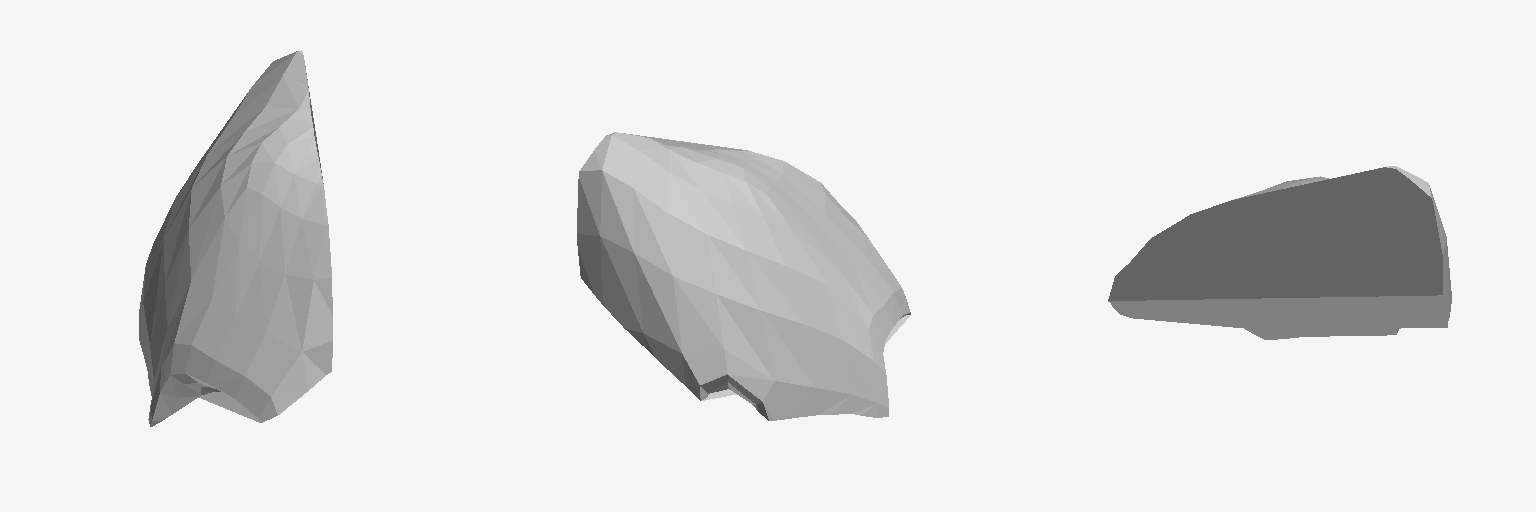
File: FracturePartFracture.obj
3 renders of one model, left to right at view 1: azimuth 30°, elevation 25°; view 2: azimuth 150°, elevation 25°; view 3: azimuth 270°, elevation 25°, orthographic.
Parts seen in each view (by area): view 1: Fracture; view 2: Fracture; view 3: Fracture.
Part boxes in pixels (bbox=[...]): Fracture: bbox=[139, 50, 332, 426]; Fracture: bbox=[577, 132, 910, 420]; Fracture: bbox=[1108, 166, 1451, 339].
Bounding box in the file's own units: 1.68 × 1.97 × 2.22.